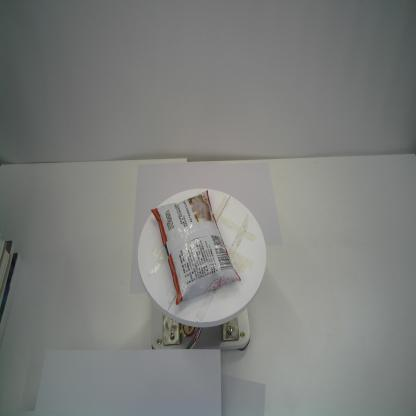Seasoner: (148, 187, 242, 307)
